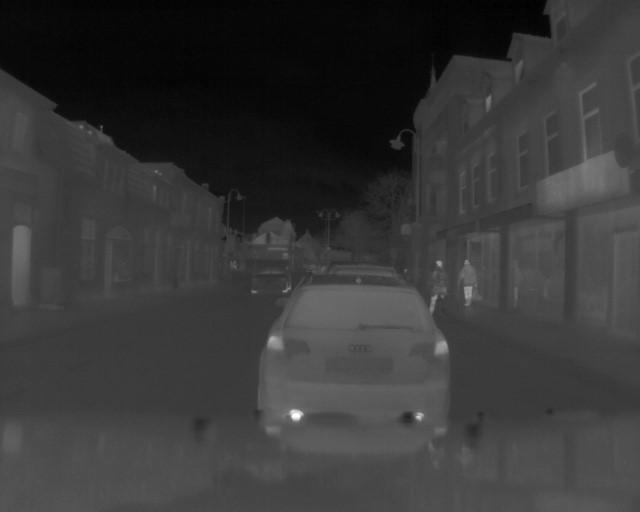car: (254, 268, 459, 438)
person: (457, 258, 480, 311), (431, 257, 449, 320)
